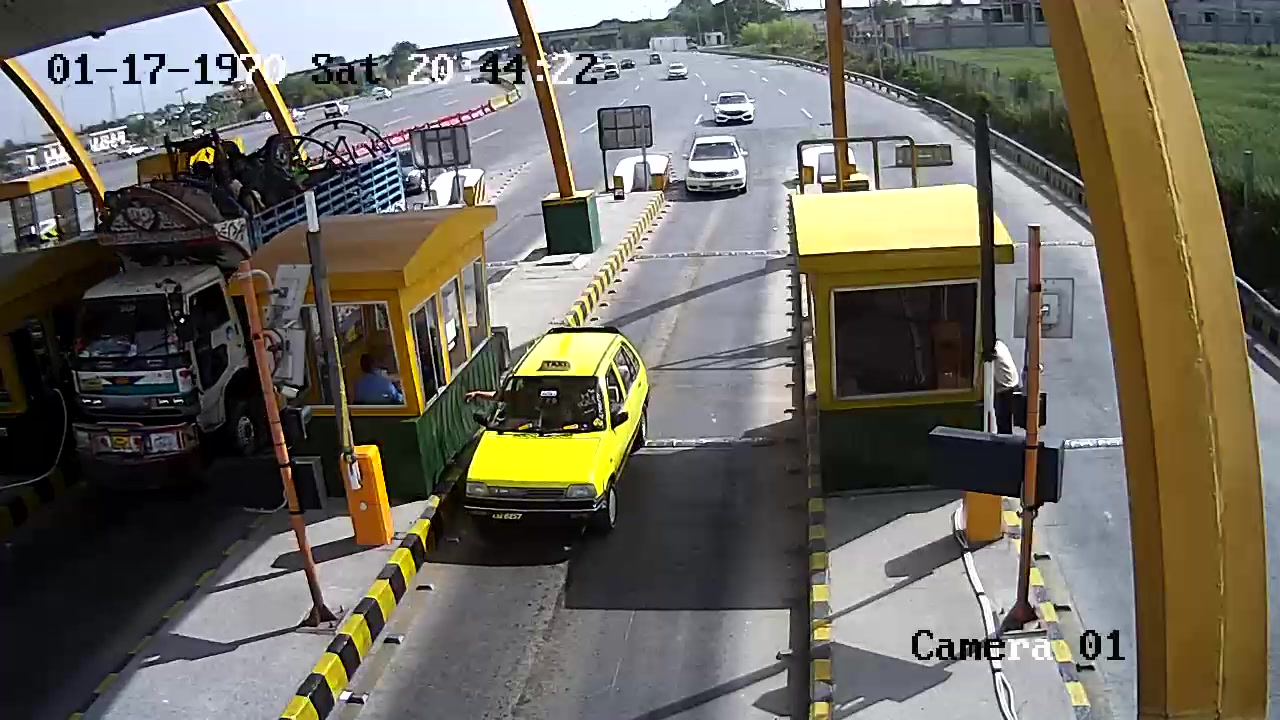F1: (465, 314, 656, 539)
